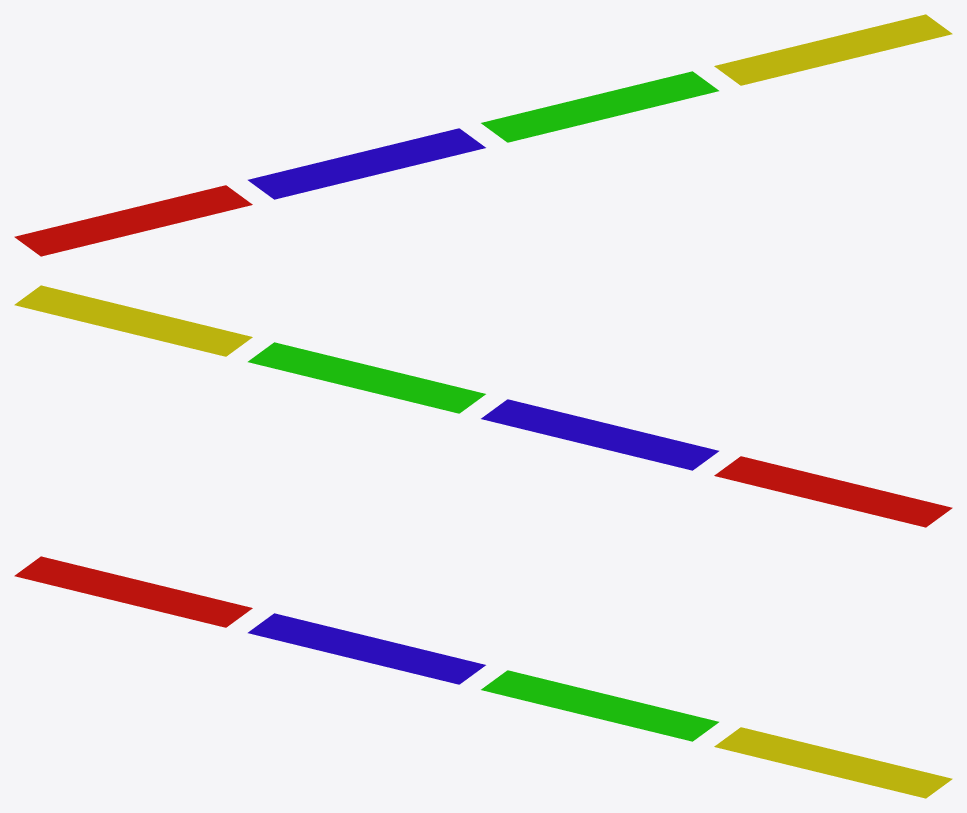
The model's file is MenuButtons.dae.
3 renders of one model, top to bottom at view 1: azimuth 30°, elevation 25°; view 2: azimuth 150°, elevation 25°; view 3: azimuth 330°, elevation 25°, orthographic.
Parts seen in each view (by area): view 1: Plane_002; view 2: Plane_002; view 3: Plane_002.
Part boxes in pixels (x1,y1,x2,y2): Plane_002: (14, 14, 952, 256); Plane_002: (14, 285, 952, 527); Plane_002: (14, 556, 952, 798).
Size of the model in its own units: 7.8 by 0.4 by 0.
